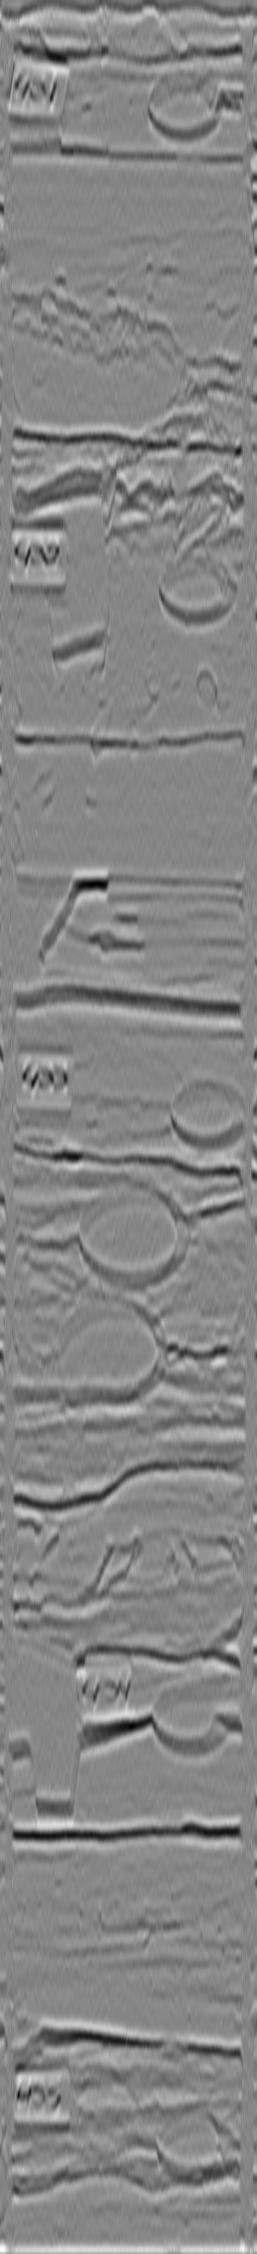hplug: (144, 2097, 246, 2195), (144, 1667, 235, 1762), (146, 539, 243, 625), (136, 60, 228, 144), (161, 1072, 246, 1153)
scal: (47, 1292, 168, 1412), (73, 1177, 194, 1292)
vplug: (37, 463, 116, 677), (22, 1616, 92, 1818), (26, 14, 116, 160)
